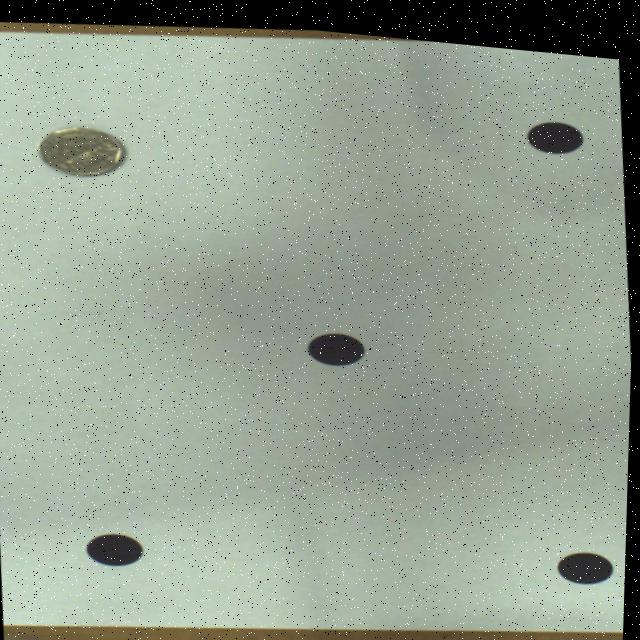space: (88, 530, 146, 563), (309, 326, 365, 358), (559, 539, 615, 571), (527, 111, 583, 142)
tail5bath: (40, 125, 126, 174)
